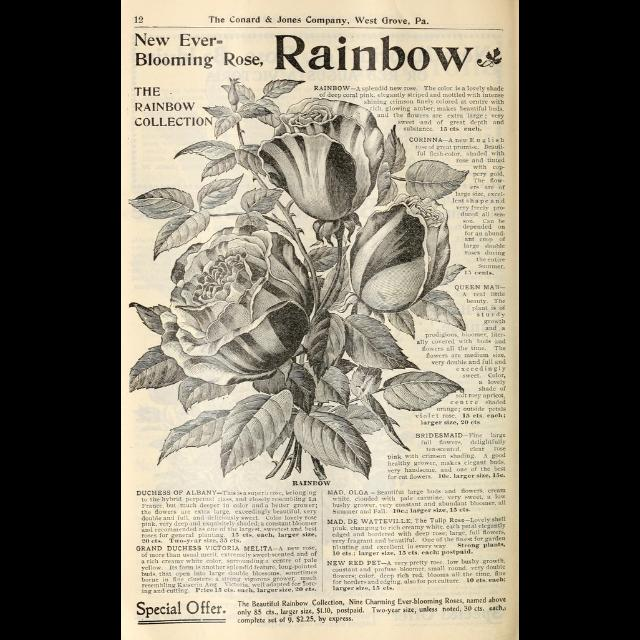Flower: (156, 210, 318, 388), (248, 95, 412, 217), (348, 192, 452, 312)
